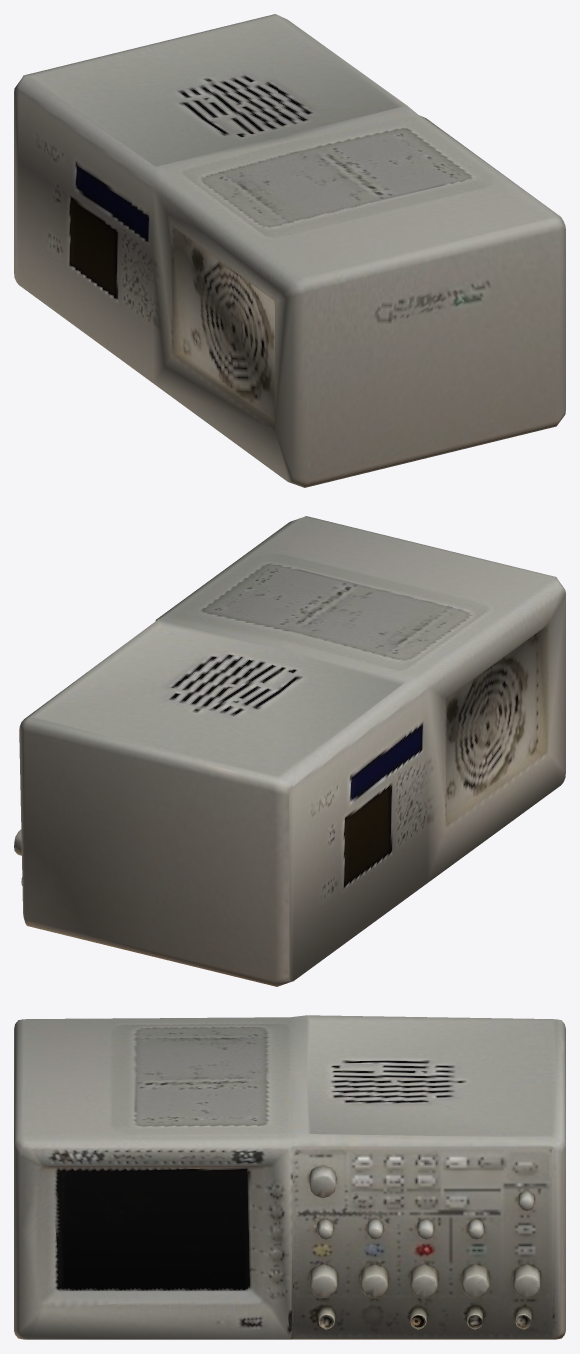
The model's file is tripo_convert_a69146d9-2cea-45d1-8d85-364728f43a09.fbx.
3 renders of one model, top to bottom at view 1: azimuth 30°, elevation 25°; view 2: azimuth 150°, elevation 25°; view 3: azimuth 270°, elevation 25°, orthographic. The views are drawn at different scales.
Parts seen in each view (by area): view 1: tripo_node_a69146d9; view 2: tripo_node_a69146d9; view 3: tripo_node_a69146d9.
Part boxes in pixels (bbox=[...]): tripo_node_a69146d9: bbox=[14, 14, 565, 487]; tripo_node_a69146d9: bbox=[14, 516, 565, 986]; tripo_node_a69146d9: bbox=[14, 1015, 565, 1339].
Bounding box in the file's own units: 0.5801 × 0.4316 × 0.998.
1 material, 1 textured.
